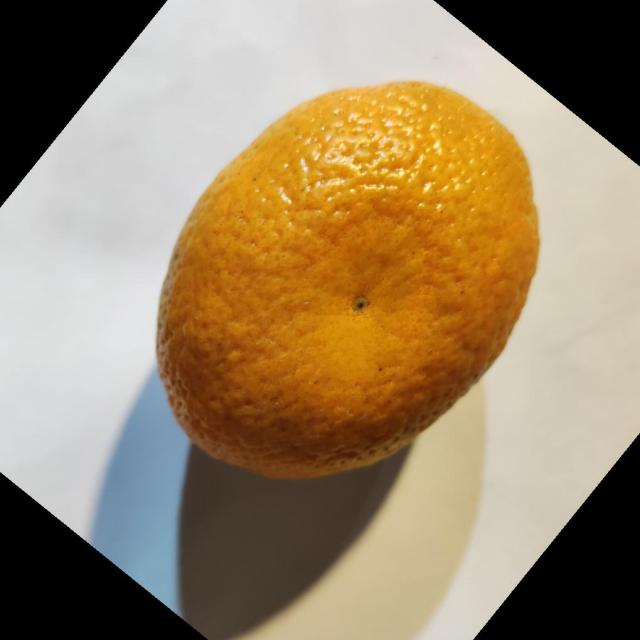fresh orange: (154, 78, 541, 480)
